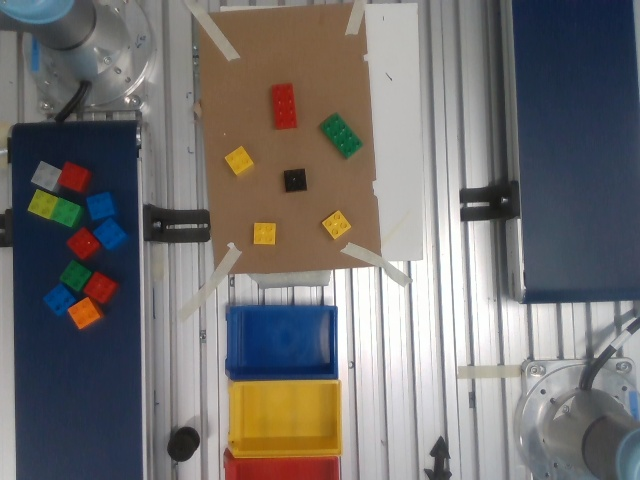duplo_4_yellow: (320, 208, 353, 242), (224, 141, 254, 175), (249, 219, 280, 249)
ignore: (320, 109, 364, 161), (269, 78, 298, 135), (284, 166, 306, 197)
